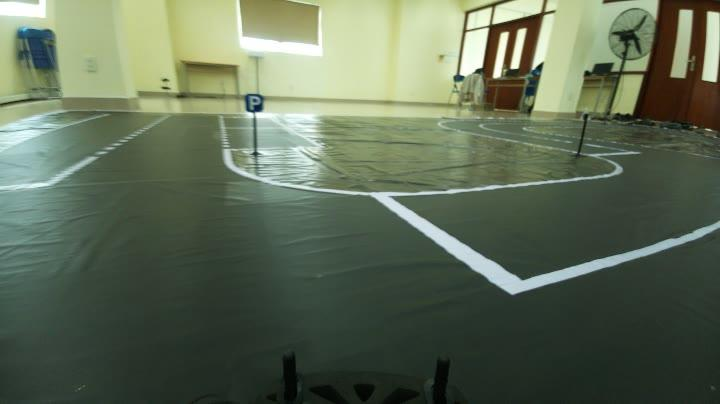parking: (236, 92, 268, 119)
